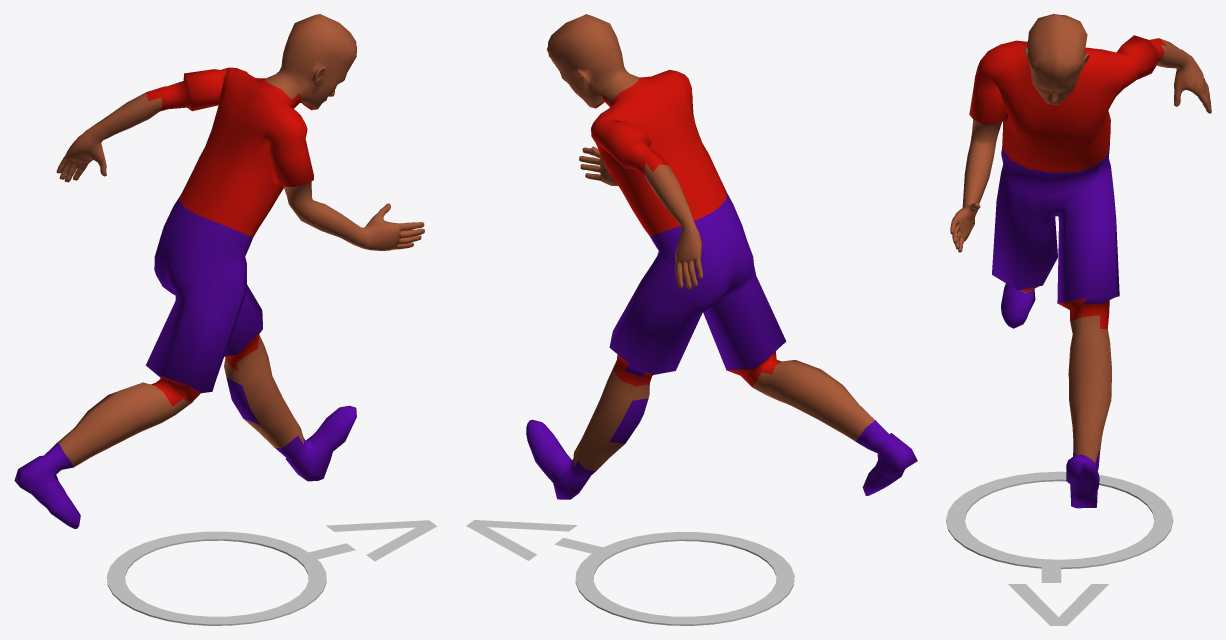
File: player_000008.obj
3 views of the same model, side by side, from view 1: azimuth 30°, elevation 25°; view 2: azimuth 150°, elevation 25°; view 3: azimuth 270°, elevation 25° (orthographic). The views are drawn at different scales.
Parts seen in each view (by area): view 1: soccerplayer.002_mesh.003, Circle, Text.001_Mesh.001; view 2: soccerplayer.002_mesh.003, Circle, Text.001_Mesh.001; view 3: soccerplayer.002_mesh.003, Circle, Text.001_Mesh.001.
Boxes of the visible parts, box(x1,y1,x2,y2) form: soccerplayer.002_mesh.003: box(14, 14, 424, 528); Circle: box(107, 531, 326, 625); Text.001_Mesh.001: box(304, 520, 437, 561); soccerplayer.002_mesh.003: box(526, 14, 917, 499); Circle: box(575, 532, 794, 625); Text.001_Mesh.001: box(466, 520, 605, 560); soccerplayer.002_mesh.003: box(950, 14, 1211, 508); Circle: box(946, 471, 1173, 569); Text.001_Mesh.001: box(1008, 561, 1108, 625).
Bounding box in the file's own units: 2.46 × 2.94 × 1.27.
